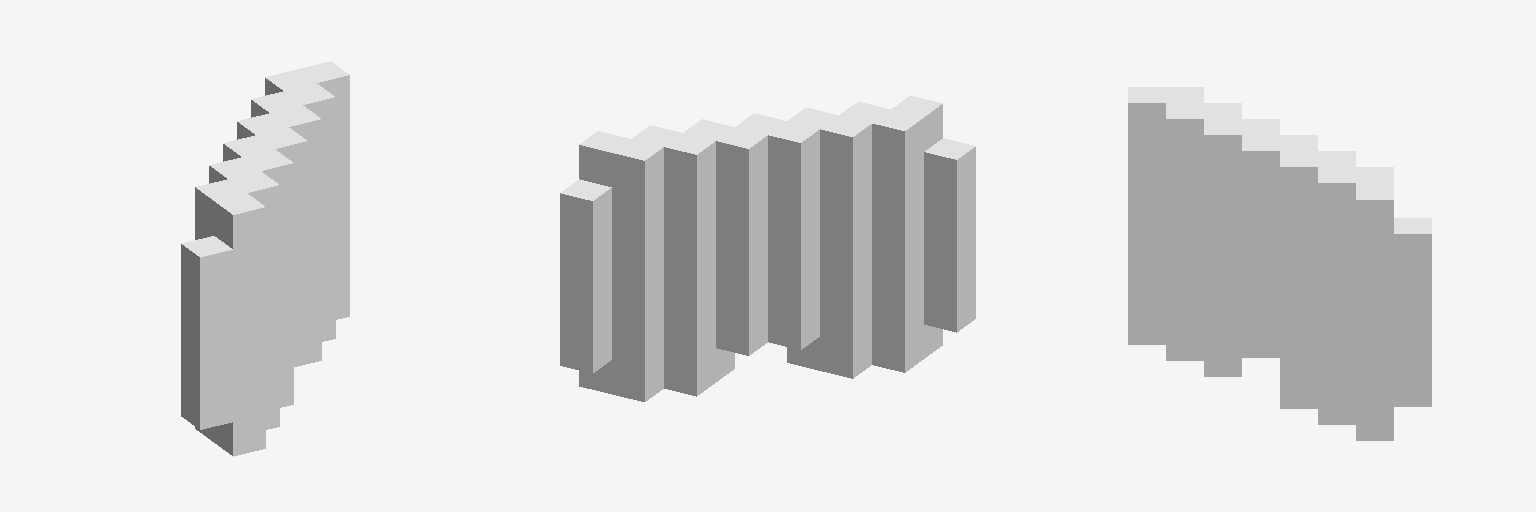
The model's file is PookaGhost1Quarter.obj.
The picture shows the model from 3 angles: view 1: azimuth 30°, elevation 25°; view 2: azimuth 150°, elevation 25°; view 3: azimuth 270°, elevation 25°; orthographic projection.
Visible parts, largest first — view 1: PookaGhost1; view 2: PookaGhost1; view 3: PookaGhost1.
Boxes of the visible parts, box(x1,y1,x2,y2) form: PookaGhost1: box(181, 61, 349, 456); PookaGhost1: box(560, 96, 975, 401); PookaGhost1: box(1128, 87, 1431, 440).
Bounding box in the file's own units: 0.8 × 0.7 × 0.8.